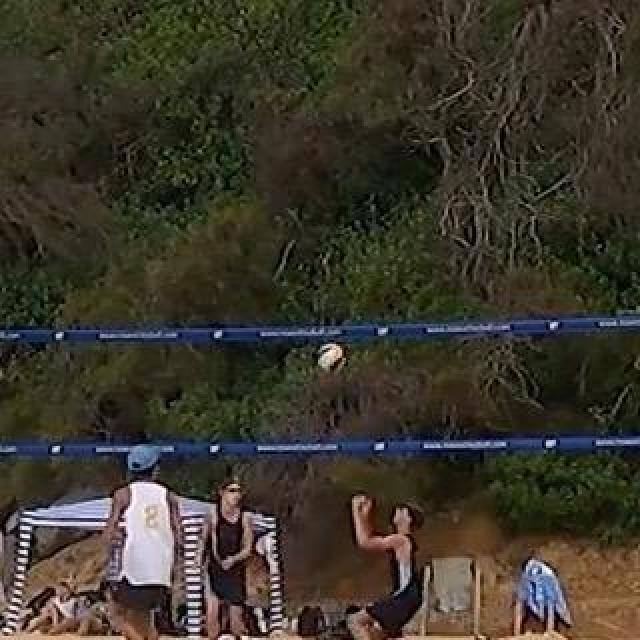volleyball: (319, 345, 345, 373)
